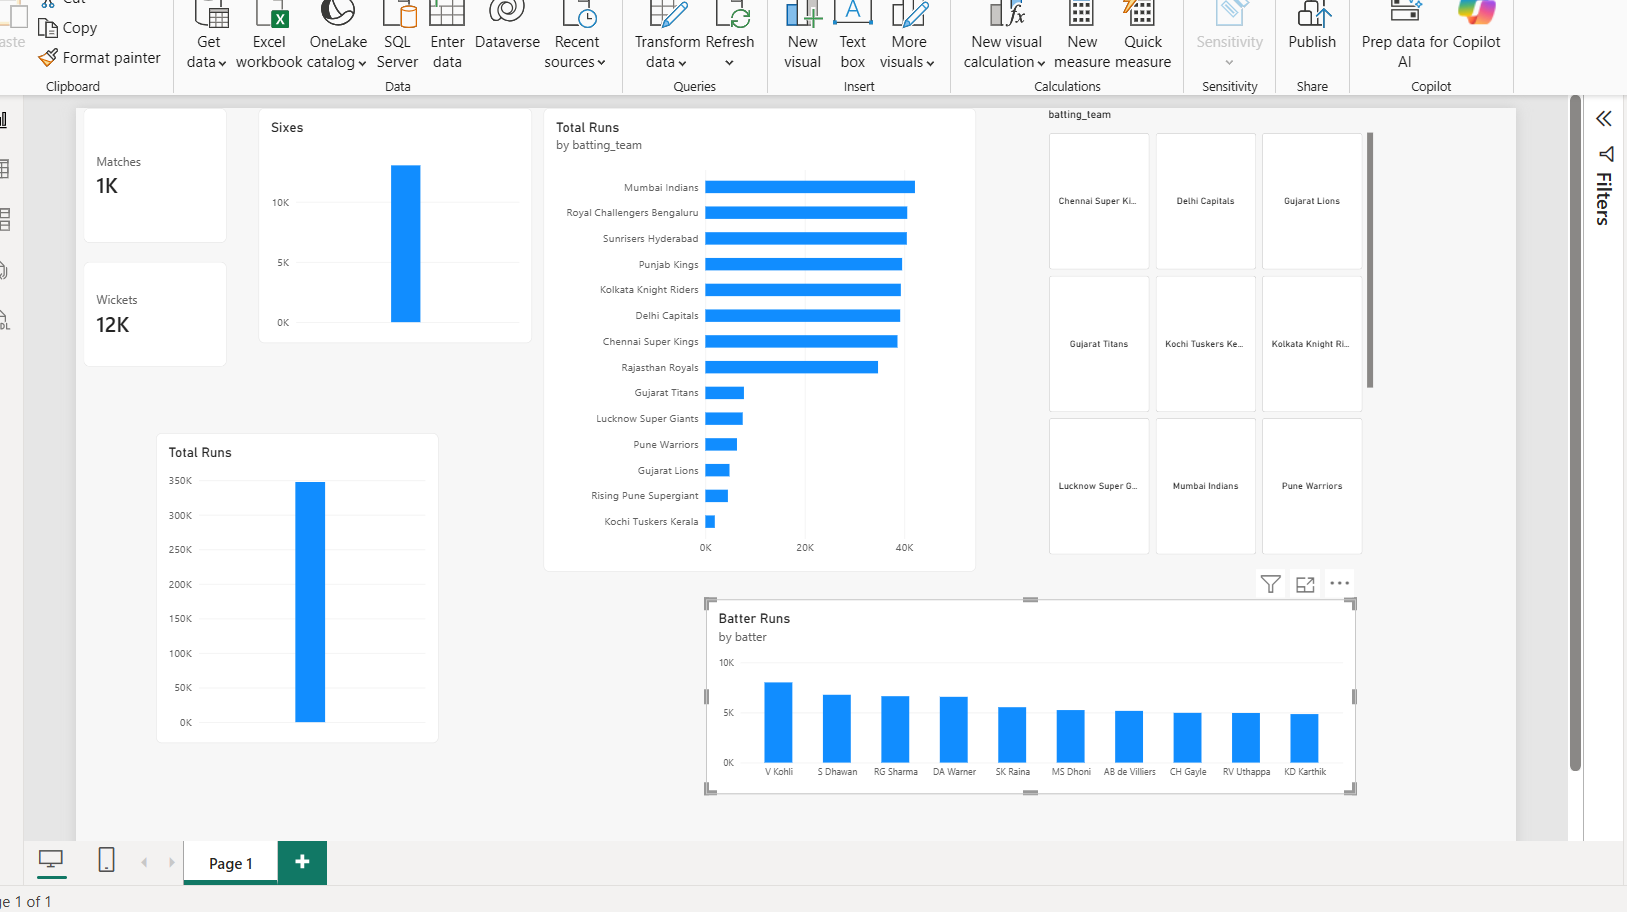

Layout of this report page (visuals, bound fields, positions):
{"tool":"powerbi","page":{"name":"Page 1","canvas":[1920,1080],"ordinal":0},"visuals":[{"type":"cardVisual","fields":{"Data":["fact_deliveries.Matches"]},"box":[10,0,191.7,180],"z":0},{"type":"clusteredColumnChart","fields":{"Y":["fact_deliveries.Total Runs"]},"box":[106.7,433.3,376.7,413.3],"z":1},{"type":"clusteredBarChart","fields":{"Category":["dim_team.batting_team"],"Y":["fact_deliveries.Total Runs"]},"box":[623.3,0,576.7,618.3],"z":2},{"type":"clusteredColumnChart","fields":{"Y":["fact_deliveries.Sixes"]},"box":[243.3,0,365,313.3],"z":3},{"type":"advancedSlicerVisual","fields":{"Values":["dim_team.batting_team"]},"box":[1296.7,0,433.3,595],"z":4},{"type":"cardVisual","fields":{"Data":["fact_deliveries.Wickets"]},"box":[10,205,191.7,140],"z":5},{"type":"clusteredColumnChart","fields":{"Category":["fact_deliveries.batter"],"Y":["fact_deliveries.Batter Runs"]},"box":[840,655,866.7,260],"z":7}]}

Visuals, with their boxes on the page's 1920x1080 design canvas (x1, y1, x2, y2). These are canvas units, not pixel positions in the 1627x912 screenshot, which may show the page scaled, cropped or inside an application window:
cardVisual - fact_deliveries.Matches: [10,0,202,180]
clusteredColumnChart - fact_deliveries.Total Runs: [107,433,483,847]
clusteredBarChart - dim_team.batting_team x fact_deliveries.Total Runs: [623,0,1200,618]
clusteredColumnChart - fact_deliveries.Sixes: [243,0,608,313]
advancedSlicerVisual - dim_team.batting_team: [1297,0,1730,595]
cardVisual - fact_deliveries.Wickets: [10,205,202,345]
clusteredColumnChart - fact_deliveries.batter x fact_deliveries.Batter Runs: [840,655,1707,915]
